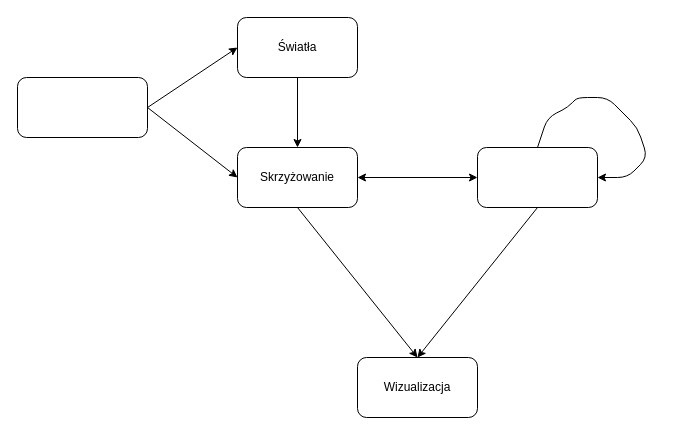
This 673x435 diagram has some shape labels left out. Here are the shapes that lost their labels. From the top down, the centre of each, then its label:
[82,107]: Mapa
[537,177]: Samochód
